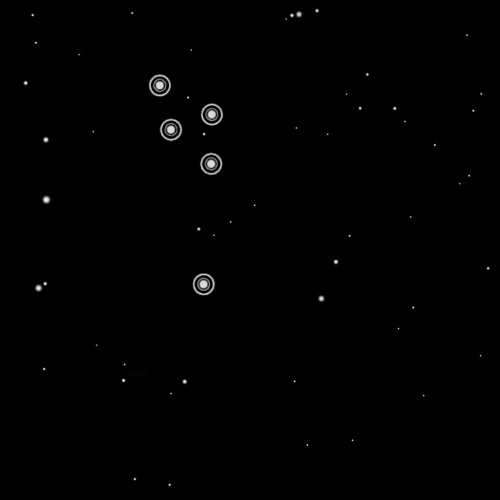delphinus: (137, 64, 232, 301)
